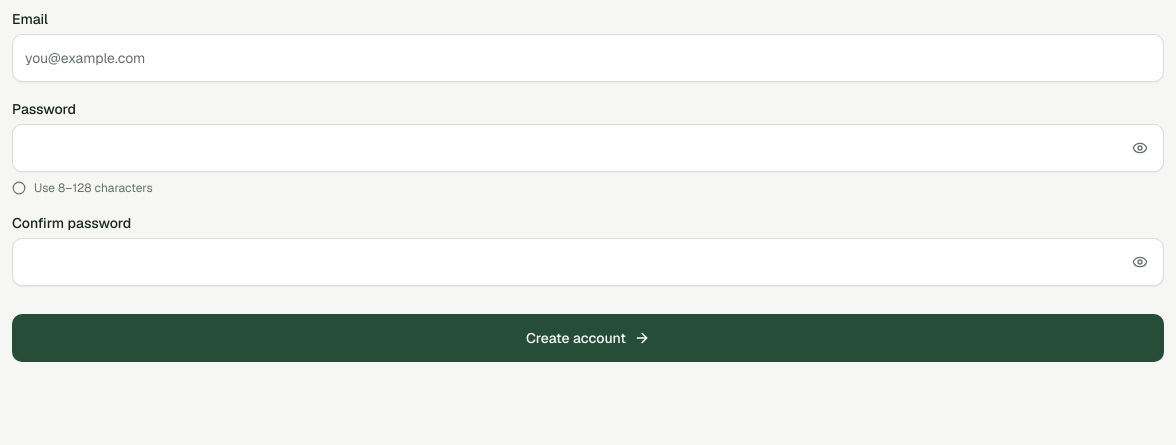
Test: registration form › shows backend failure without navigating and allows retry
The width and height of the screenshot is (1176, 445).
Step 1. Type "Sandi@Example.com" into the field labelled "Email" → (588, 58), box [12, 34, 1164, 82]
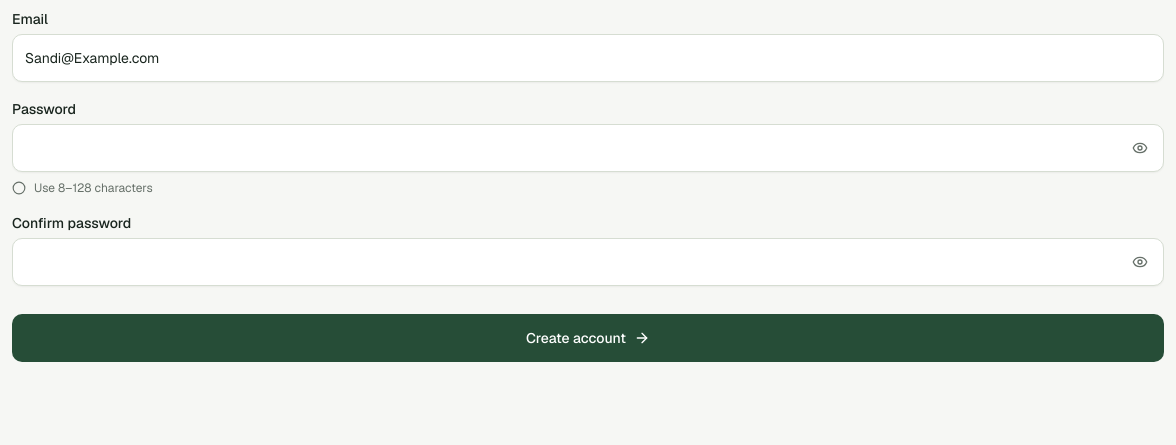
Step 2. Type "abcdefgh" into the password field labelled "Password" → (588, 148), box [12, 124, 1164, 172]
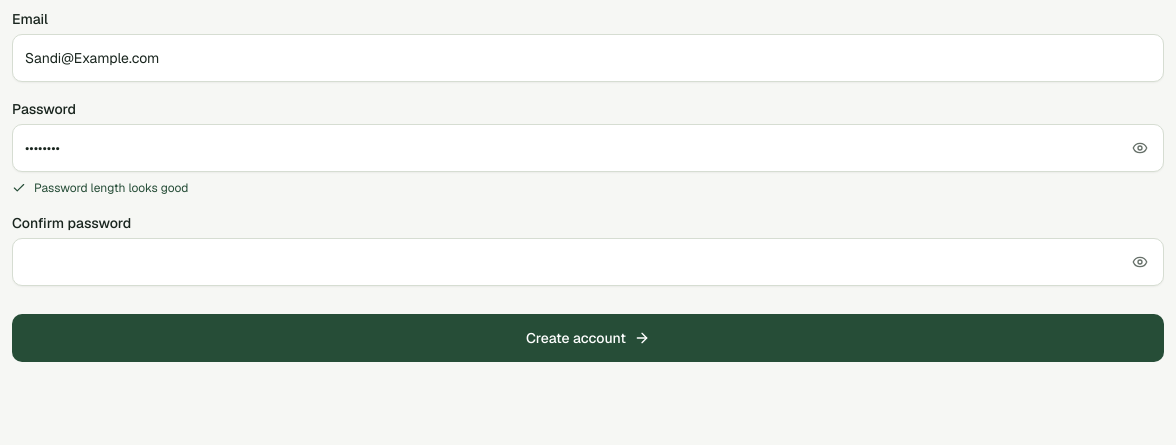
Step 3. Type "abcdefgh" into the password field labelled "Confirm password" → (588, 262), box [12, 238, 1164, 286]
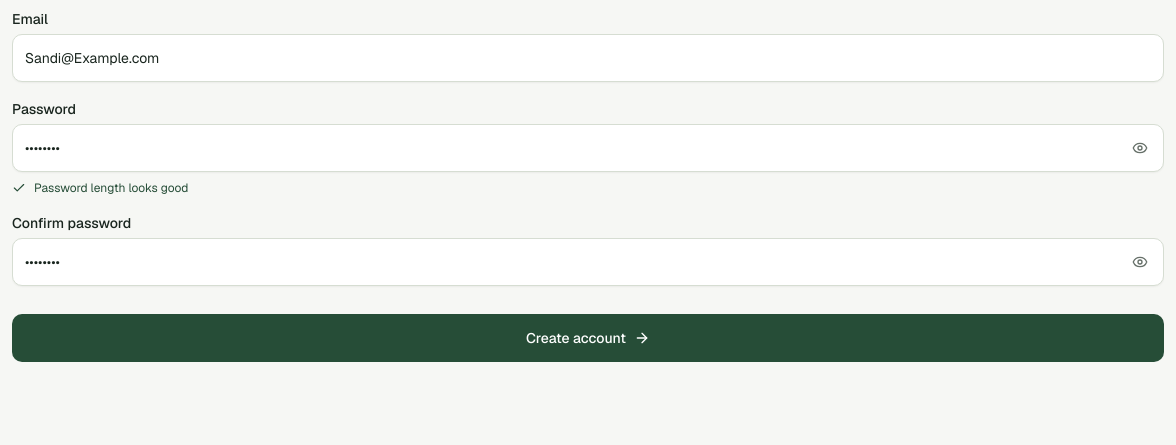
Step 4. Click the button "Create account" → (588, 338), box [12, 314, 1164, 362]
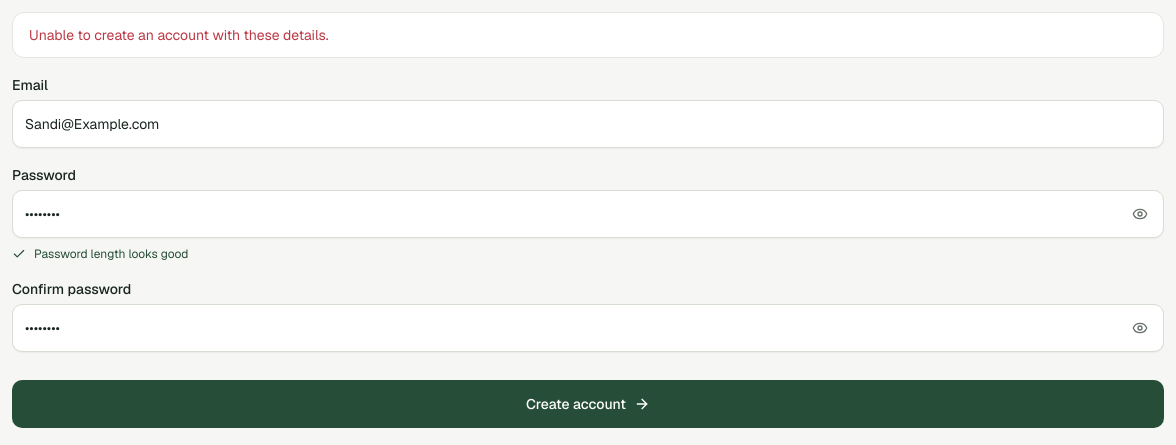
Expected: the button "Create account" is enabled, [12, 380, 1164, 428]
Expected: the message reads "Unable to create an account with these details.", [29, 26, 329, 44]
